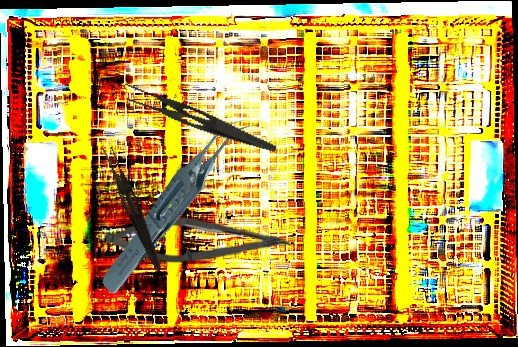Dressing Forceps: (118, 80, 283, 154), (98, 146, 169, 273)
Micro Scissor: (104, 211, 292, 267)
Tissue Forceps: (72, 112, 282, 297)
